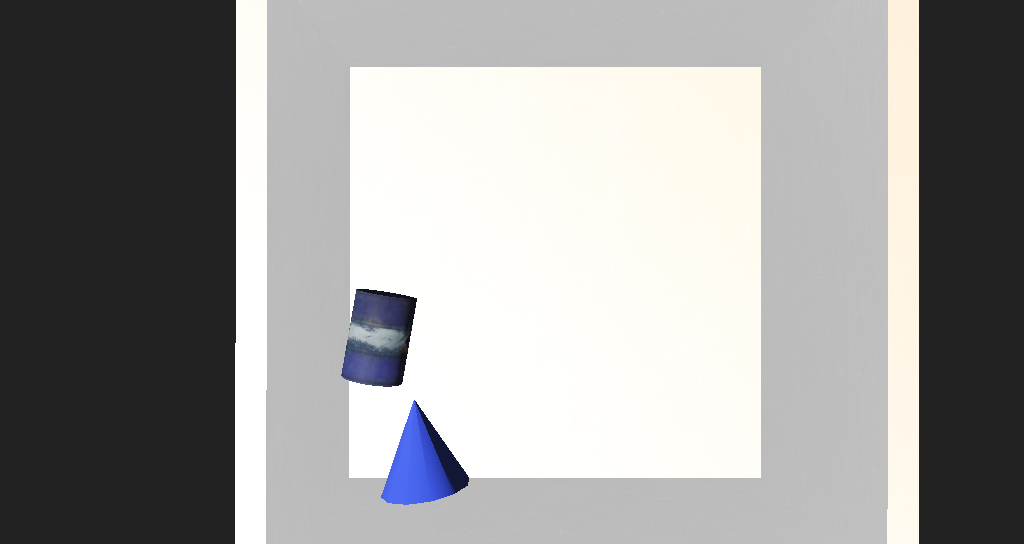cone: (347, 279, 408, 332)
cylinder: (357, 327, 451, 389)
sphere: (300, 69, 387, 131)
